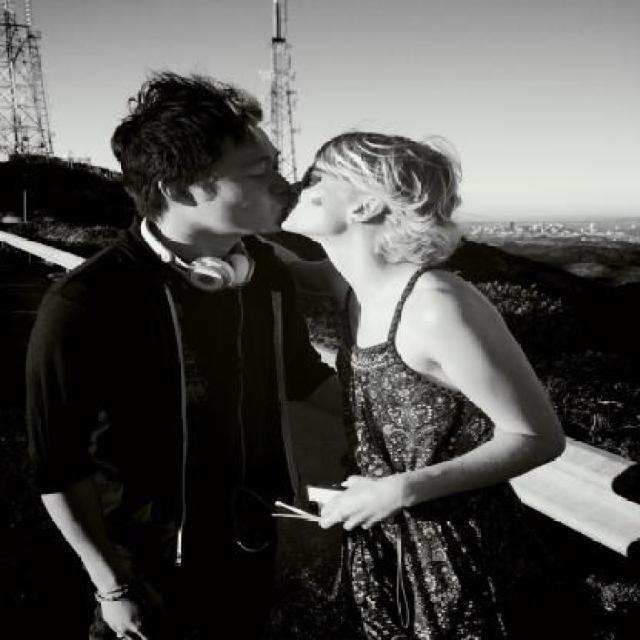earphone: (127, 195, 283, 298)
